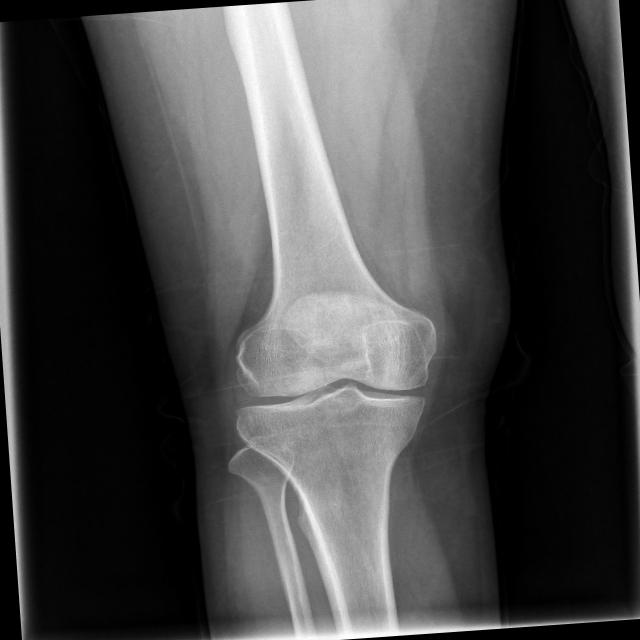Knee: (230, 311, 448, 465)
